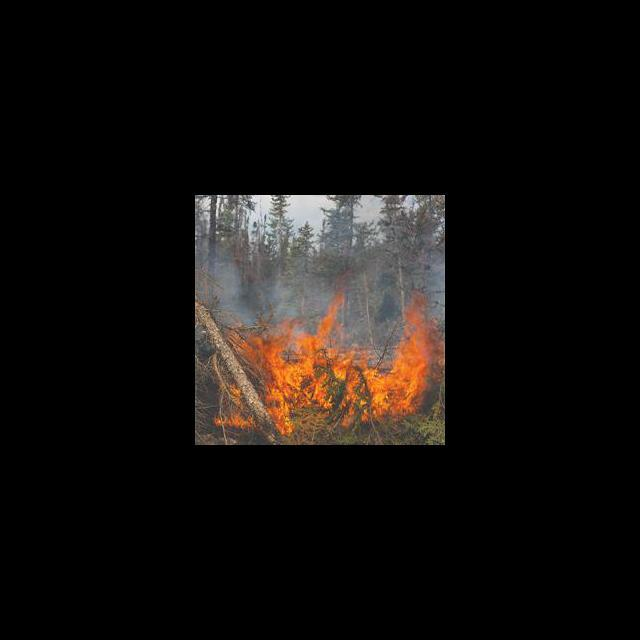Fire: (205, 283, 438, 437)
